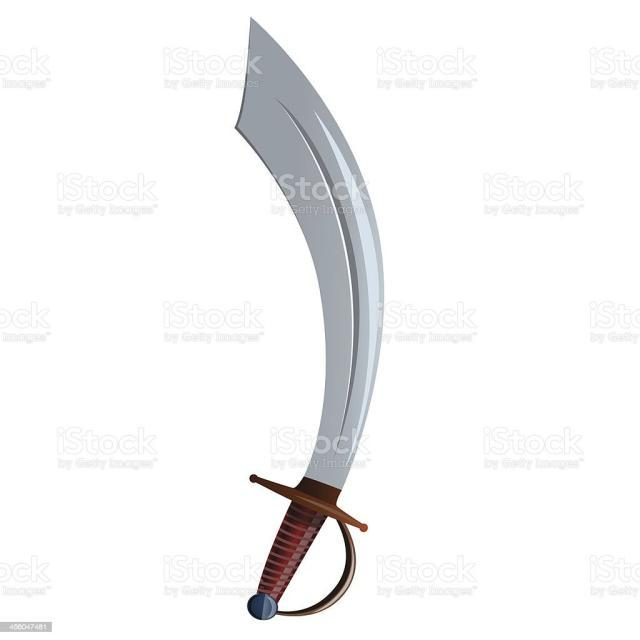long sword: (234, 18, 386, 622)
